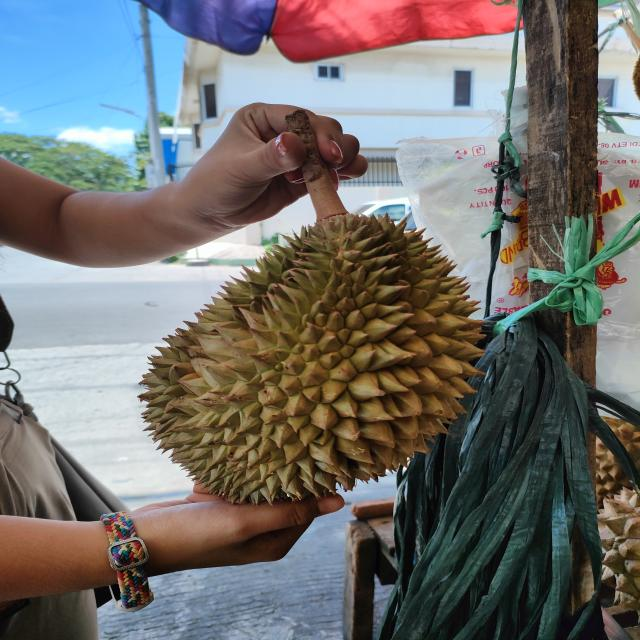mature: (133, 213, 489, 504)
